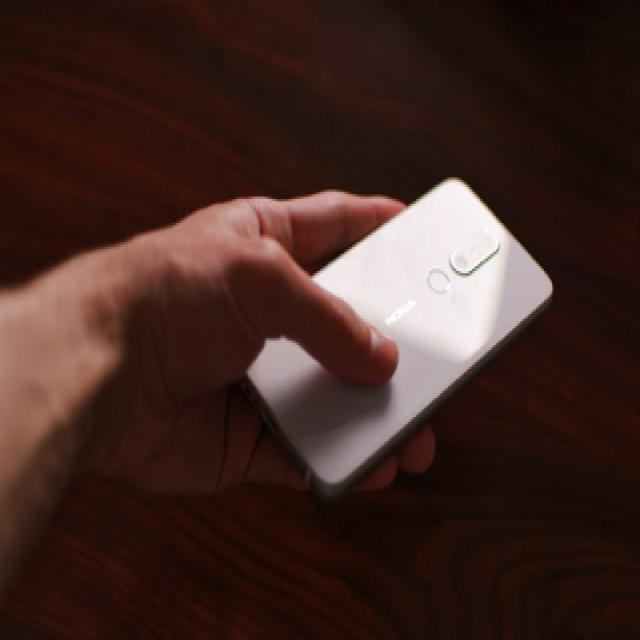cellphone: (236, 172, 554, 503)
